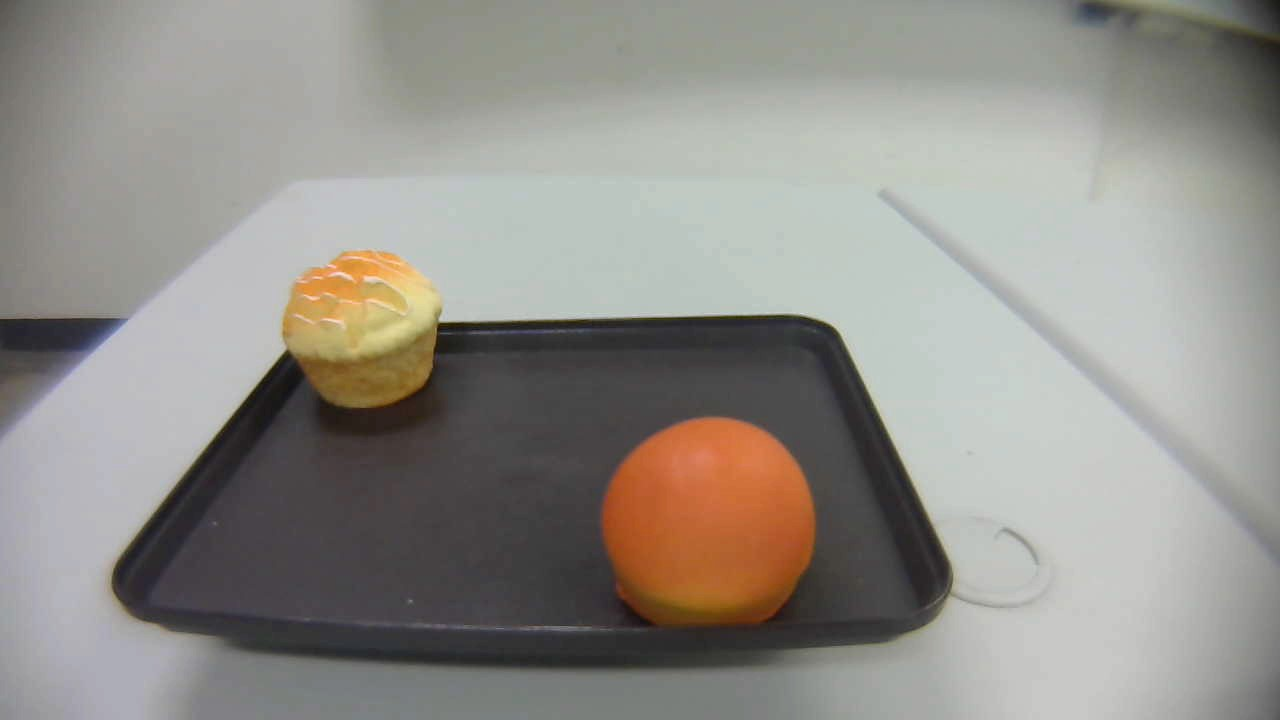bun: (601, 416, 817, 631)
cupcake: (283, 248, 444, 408)
